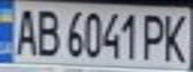0: (81, 8, 103, 60)
1: (118, 9, 142, 60)
4: (103, 9, 124, 60)
6: (60, 7, 84, 58)
A: (9, 4, 39, 56)
B: (33, 6, 60, 57)
K: (160, 10, 193, 63)
P: (139, 10, 169, 61)
